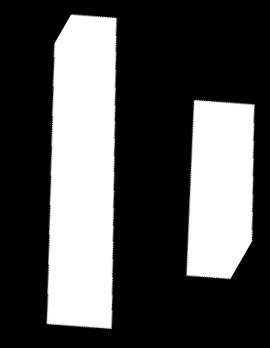parkingspot: (46, 14, 117, 329), (186, 100, 255, 279)
